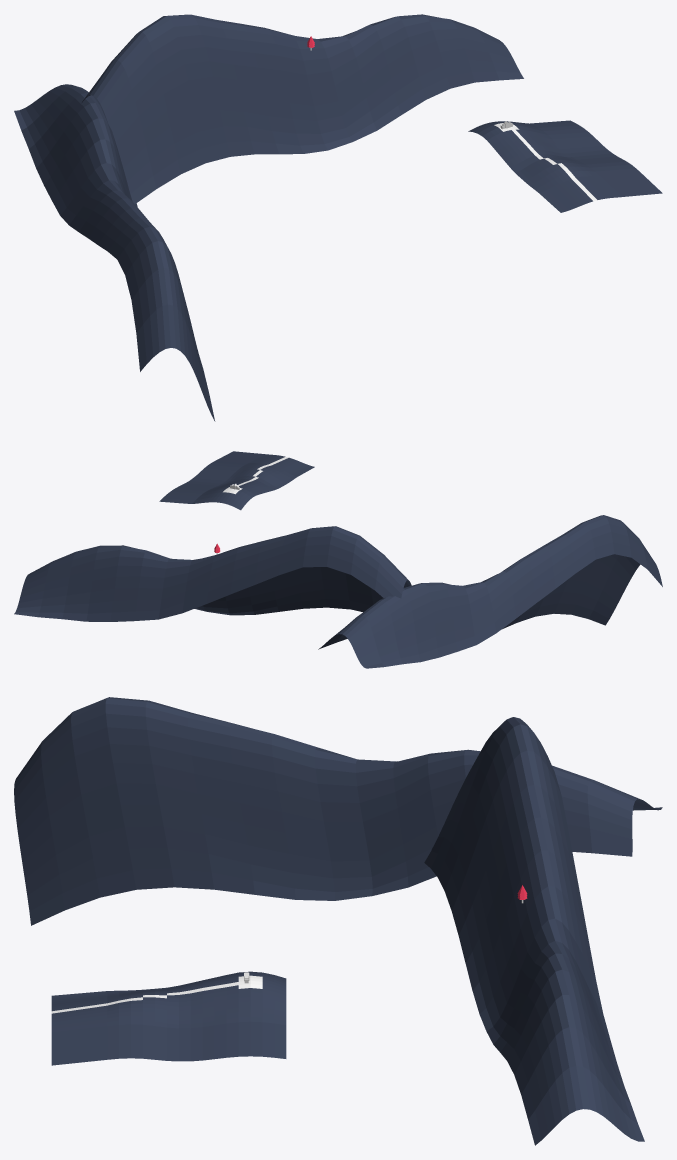
File: assetMenu.fbx
3 views of the same model, one above another, from view 1: azimuth 30°, elevation 25°; view 2: azimuth 150°, elevation 25°; view 3: azimuth 270°, elevation 25° (orthographic). The views are drawn at different scales.
Parts seen in each view (by area): view 1: Plane.001, Plane.002, Plane; view 2: Plane.001, Plane.002, Plane; view 3: Plane.002, Plane.001, Plane.
Boxes of the visible parts, left/top/right/bottom form: Plane.001: left=82, top=14, right=523, bottom=203; Plane.002: left=14, top=84, right=215, bottom=421; Plane: left=468, top=120, right=662, bottom=212; Plane.001: left=14, top=526, right=411, bottom=621; Plane.002: left=318, top=515, right=662, bottom=668; Plane: left=159, top=451, right=314, bottom=510; Plane.002: left=14, top=697, right=662, bottom=925; Plane.001: left=424, top=717, right=644, bottom=1145; Plane: left=51, top=971, right=286, bottom=1065.
Bounding box in the file's own units: 17780 × 6719 × 13581.
